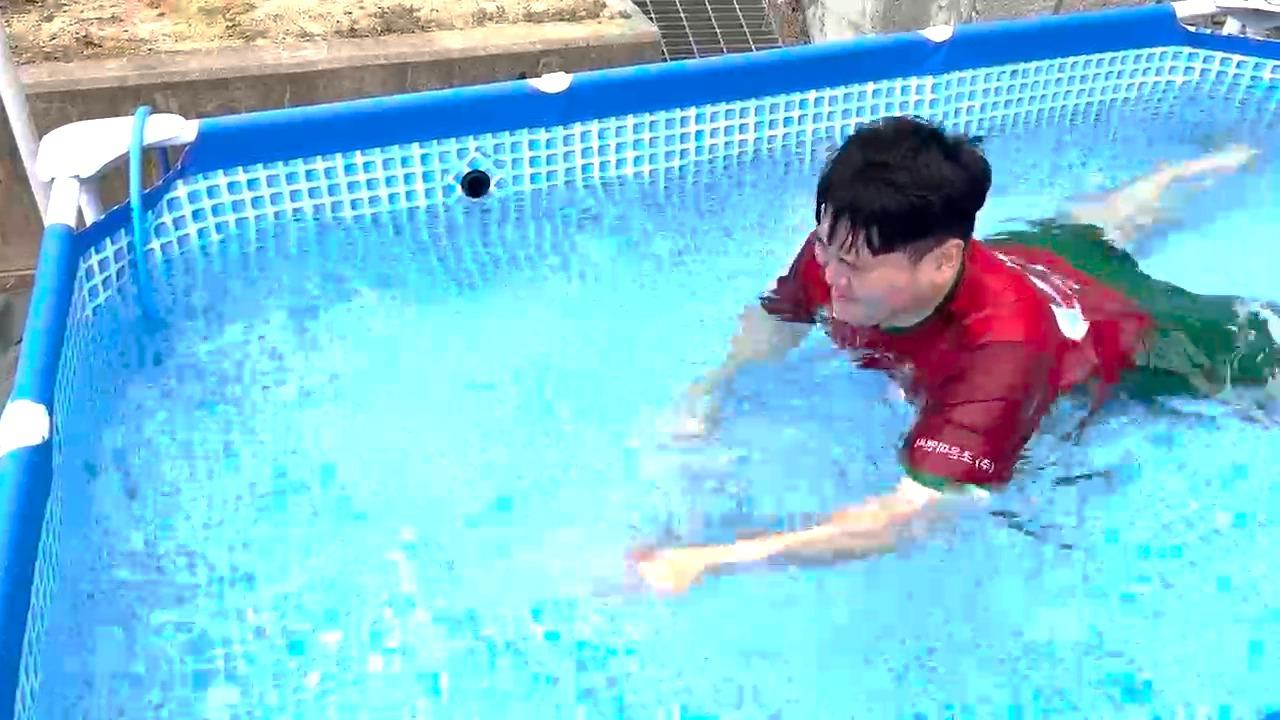Drowning: (525, 86, 1280, 586)
